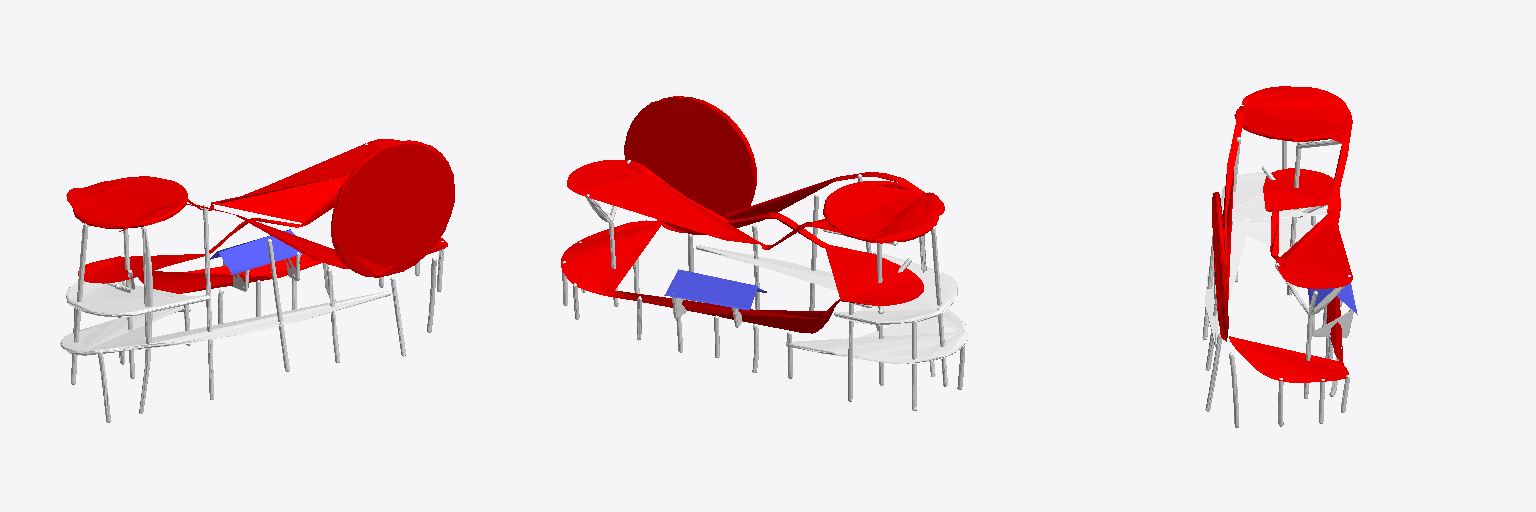
The model's file is RCLP.obj.
The picture shows the model from 3 angles: view 1: azimuth 30°, elevation 25°; view 2: azimuth 150°, elevation 25°; view 3: azimuth 270°, elevation 25°; orthographic projection.
Visible parts, largest first — view 1: RC; view 2: RC; view 3: RC.
Part boxes in pixels (bbox=[...]): RC: bbox=[60, 139, 454, 422]; RC: bbox=[561, 96, 968, 410]; RC: bbox=[1202, 86, 1357, 427].
Bounding box in the file's own units: 34.96 × 19.02 × 12.24.